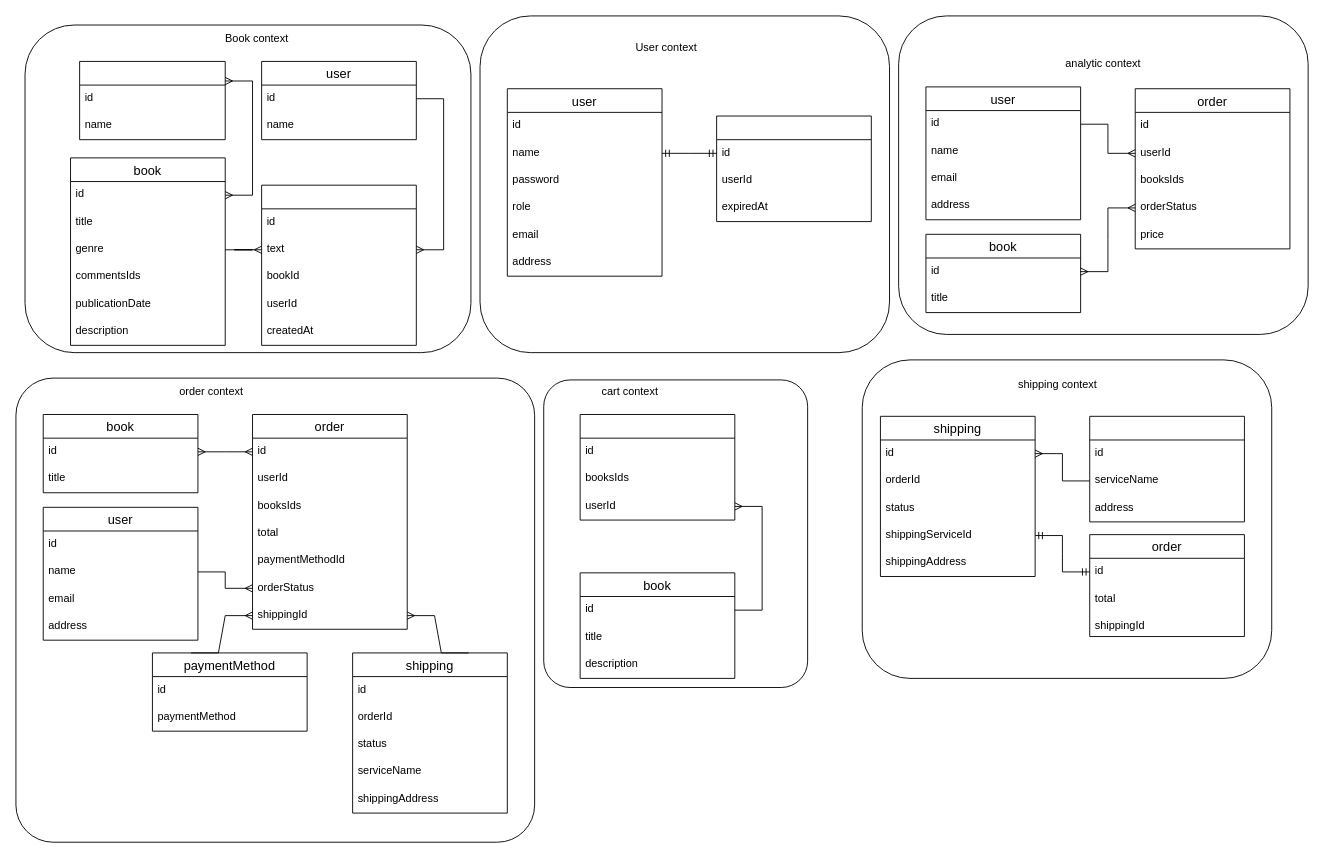
Image size: 1324x858. Some labels were removed from this diagram. The shapes that lost their labels are listed below. From the top down, each one's box as (x1, y1, x2, y2) in pixels, then its label:
(79, 61, 225, 140): author
(716, 115, 871, 222): session
(261, 184, 416, 345): comment
(579, 414, 735, 520): cart
(1089, 415, 1244, 522): shippingService
